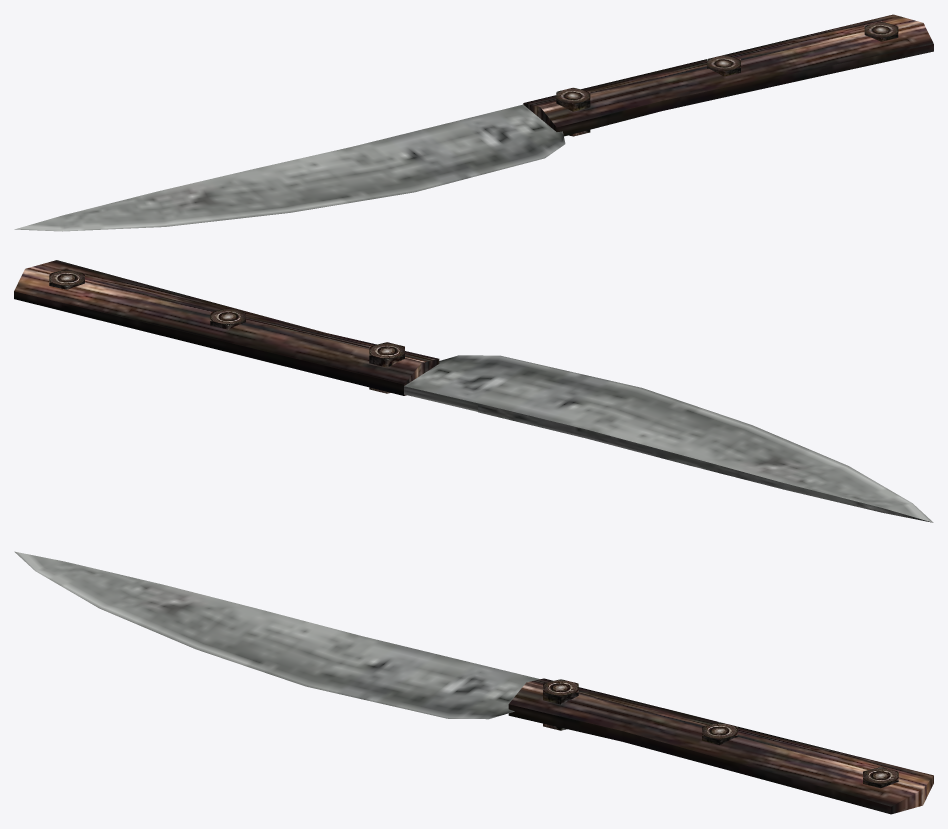
File: KM_ITMW_LAKOMY_1H_KITCHEN_KNIFE_01.glb
The picture shows the model from 3 angles, top to bottom: view 1: azimuth 30°, elevation 25°; view 2: azimuth 150°, elevation 25°; view 3: azimuth 330°, elevation 25°; orthographic projection. The views are drawn at different scales.
Parts seen in each view (by area): view 1: KM_ITMW_LAKOMY_1H_KITCHEN_KNIFE_01; view 2: KM_ITMW_LAKOMY_1H_KITCHEN_KNIFE_01; view 3: KM_ITMW_LAKOMY_1H_KITCHEN_KNIFE_01.
Part boxes in pixels (left/top/right/bottom): KM_ITMW_LAKOMY_1H_KITCHEN_KNIFE_01: left=14, top=14, right=933, bottom=231; KM_ITMW_LAKOMY_1H_KITCHEN_KNIFE_01: left=14, top=260, right=933, bottom=522; KM_ITMW_LAKOMY_1H_KITCHEN_KNIFE_01: left=14, top=551, right=933, bottom=814.
Bounding box in the file's own units: 0.4035 × 0.0141 × 0.049.
Materials: 2 (2 with a texture image).
